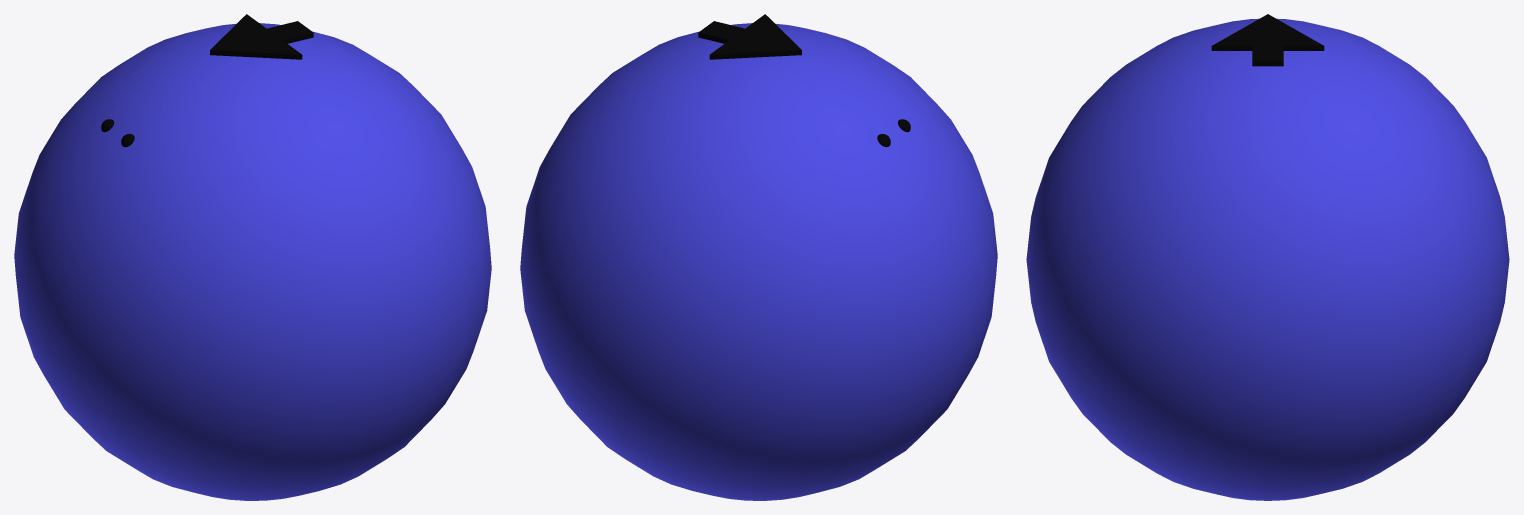
File: bpurple.obj
3 views of the same model, side by side, from view 1: azimuth 30°, elevation 25°; view 2: azimuth 150°, elevation 25°; view 3: azimuth 270°, elevation 25° (orthographic).
Parts seen in each view (by area): view 1: Cube.021_Cube.009; view 2: Cube.021_Cube.009; view 3: Cube.021_Cube.009.
Part boxes in pixels (bbox=[...]): Cube.021_Cube.009: bbox=[14, 14, 491, 500]; Cube.021_Cube.009: bbox=[520, 14, 997, 500]; Cube.021_Cube.009: bbox=[1026, 14, 1509, 500].
Size of the model in its own units: 0.4999 by 0.5016 by 0.4999.
